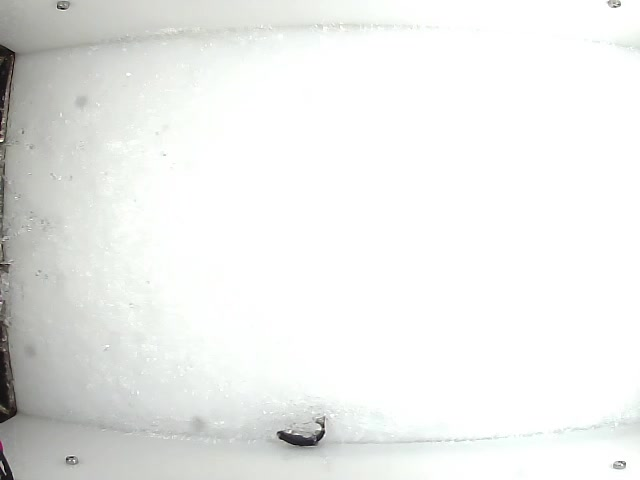fish: (275, 413, 326, 449)
